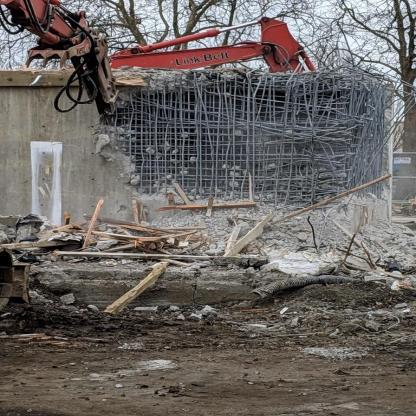rebar: (105, 53, 415, 205)
